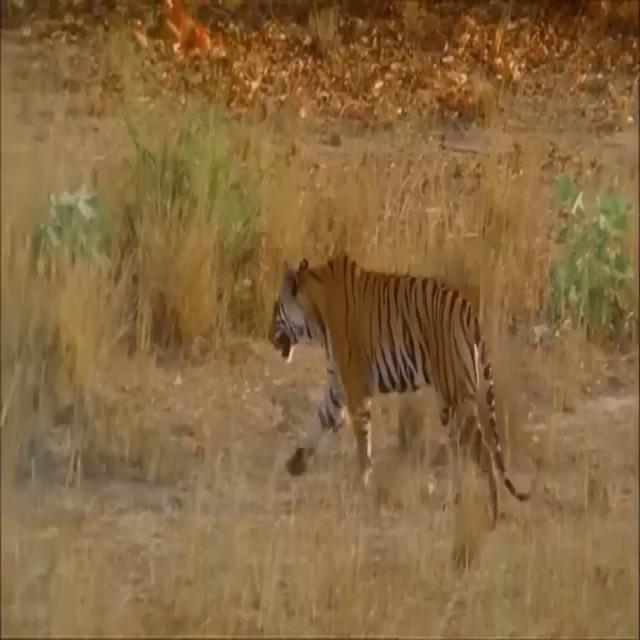tiger: (267, 252, 531, 531)
